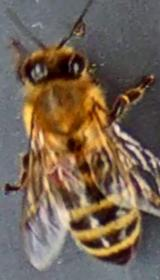varroa_mite: (41, 155, 74, 190)
